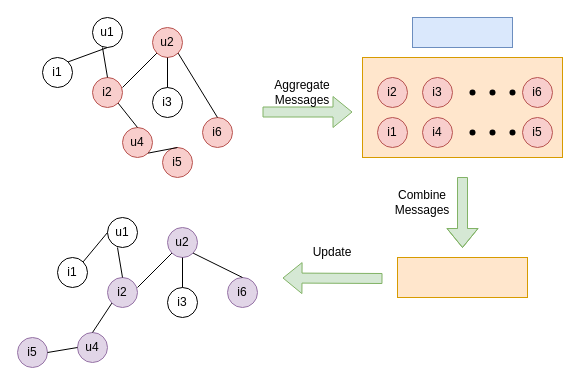
The diagram is 580 pixels wide and 385 high, and some of its shapes have lost their labels. Each missing label, with the box of its shape:
Graph Convolution Network: (396, 256, 528, 298)
Multi Head Attention: (412, 16, 512, 48)
